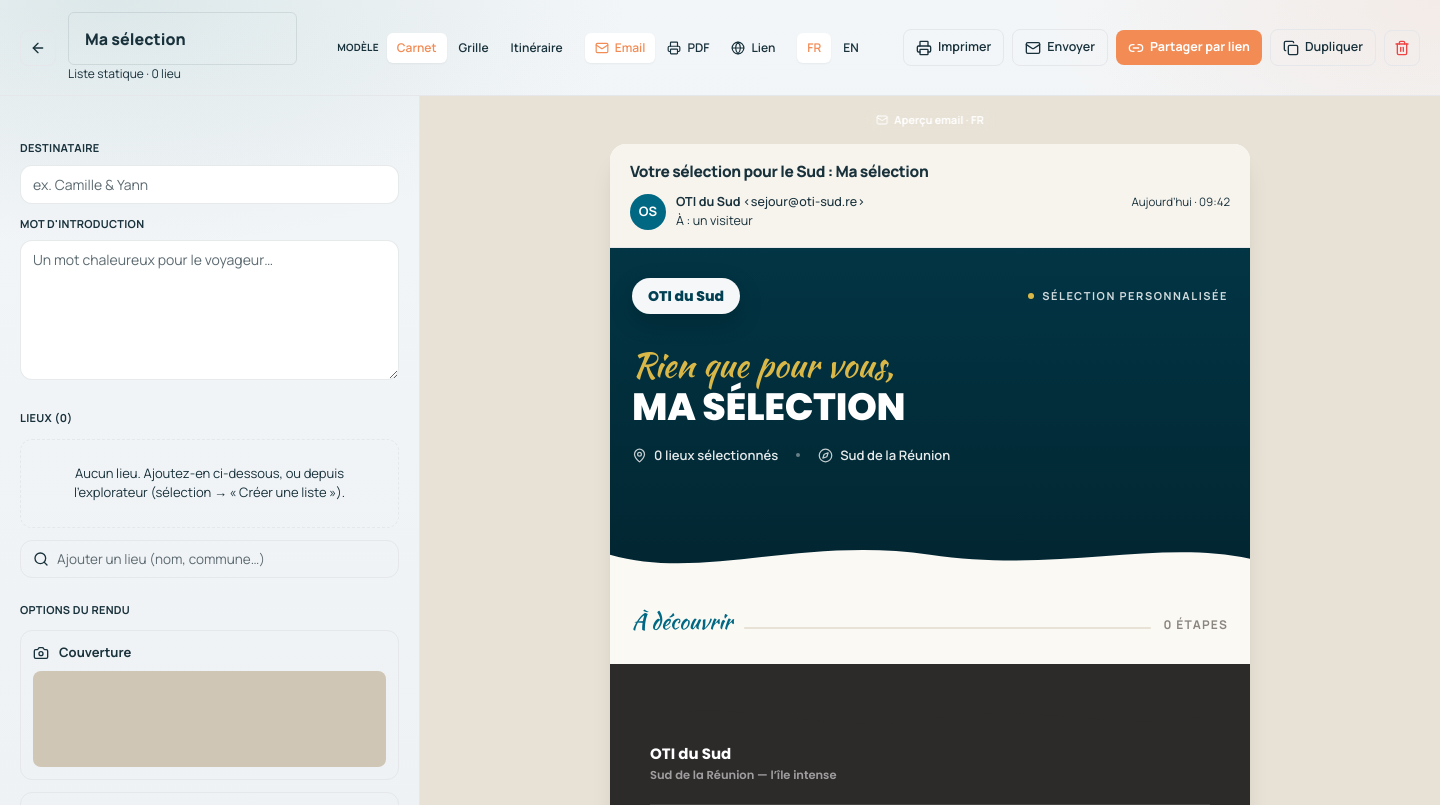
Test: ListComposeView — réconciliation post-enregistrement (rejet vs ajout plus récent) › retire un lieu ENVOYÉ mais rejeté par le serveur (ex. devenu brouillon) et le signale, tout en gardant un ajout survenu pendant le round-trip
The image size is (1440, 805).
Type "al" into the field with placeholder "Ajouter un lieu (nom, commune…)" at point(222, 559), box [57, 549, 386, 569]
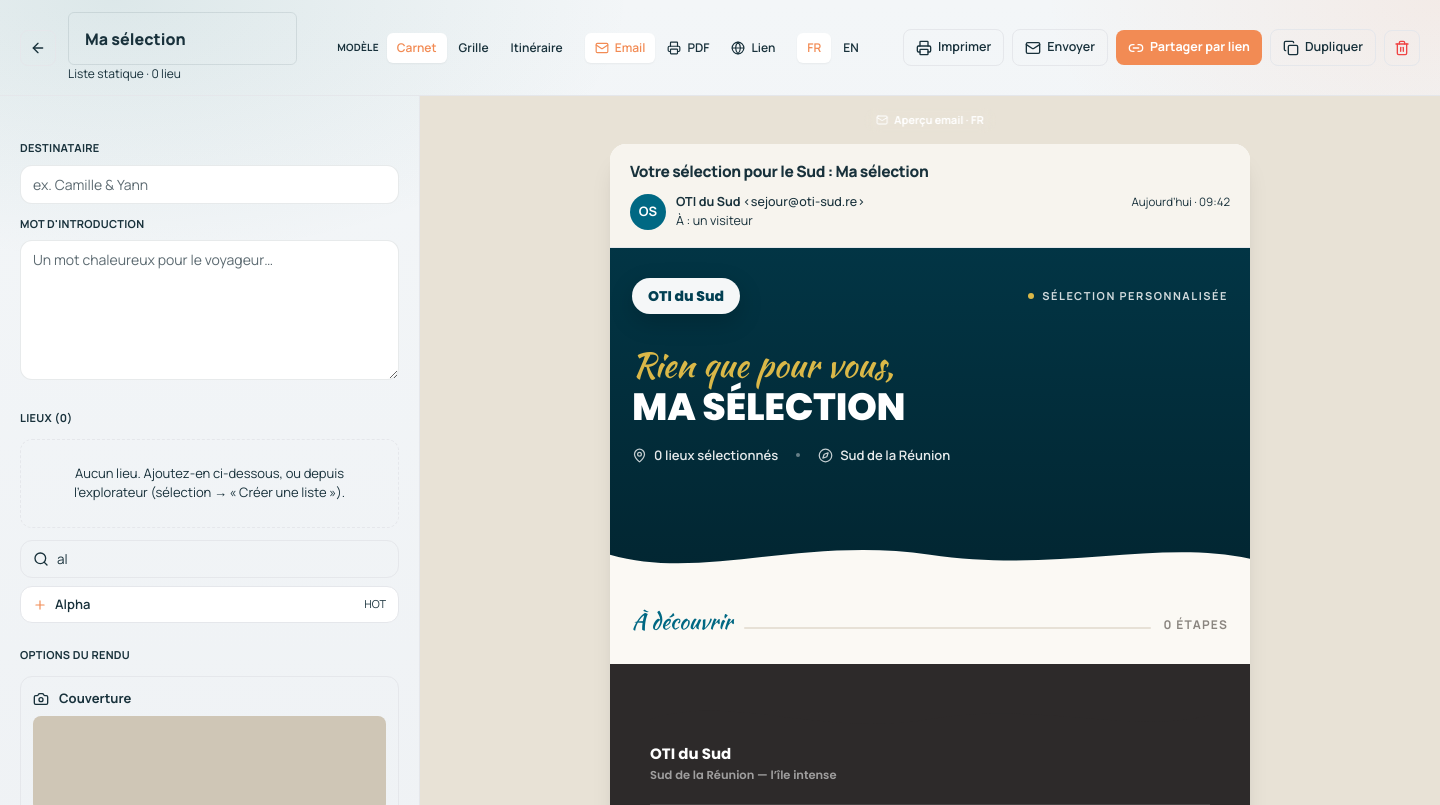
Click the text "Alpha" at point(73, 605), box [55, 595, 90, 614]
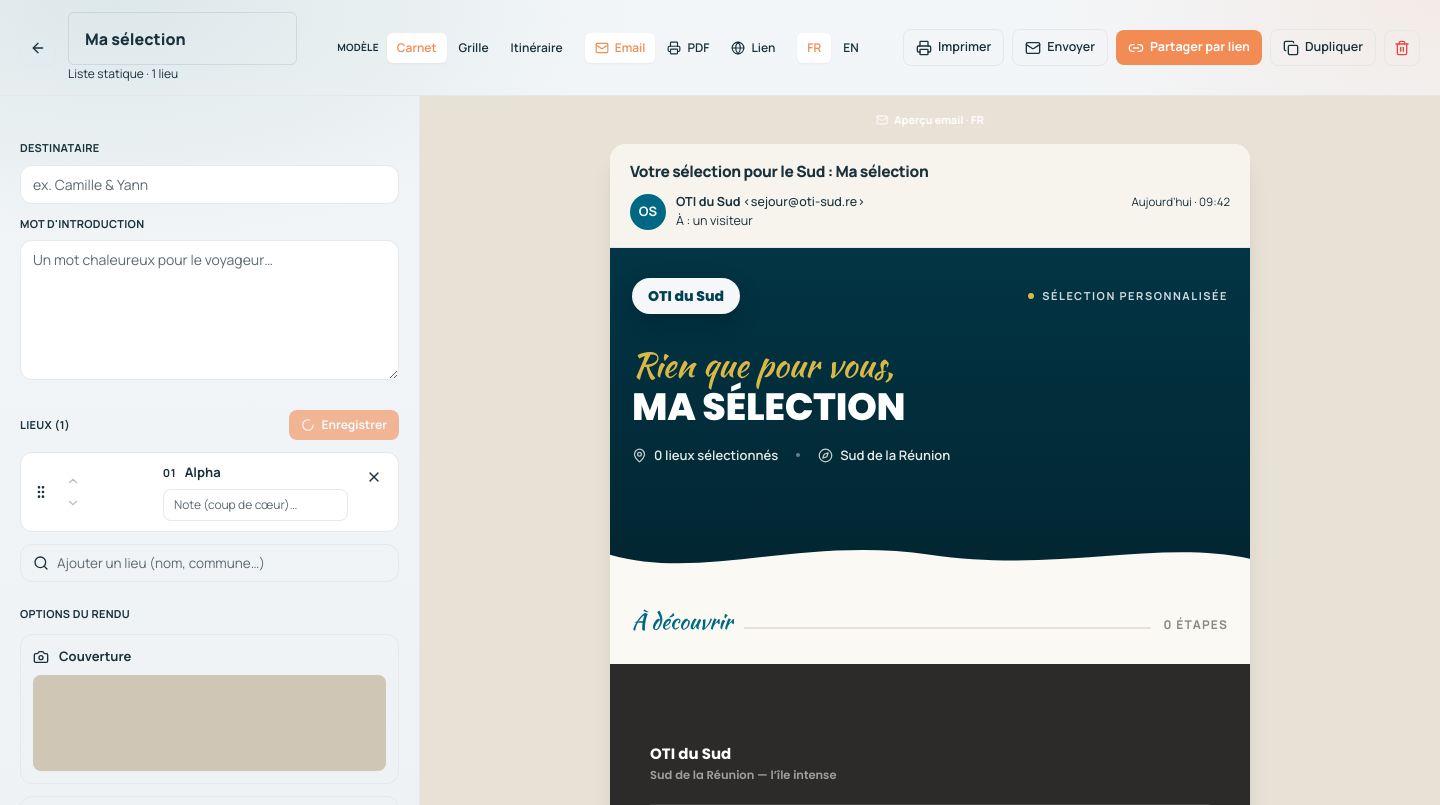
Type "be" into the field with placeholder "Ajouter un lieu (nom, commune…)" at point(222, 563), box [57, 553, 386, 573]
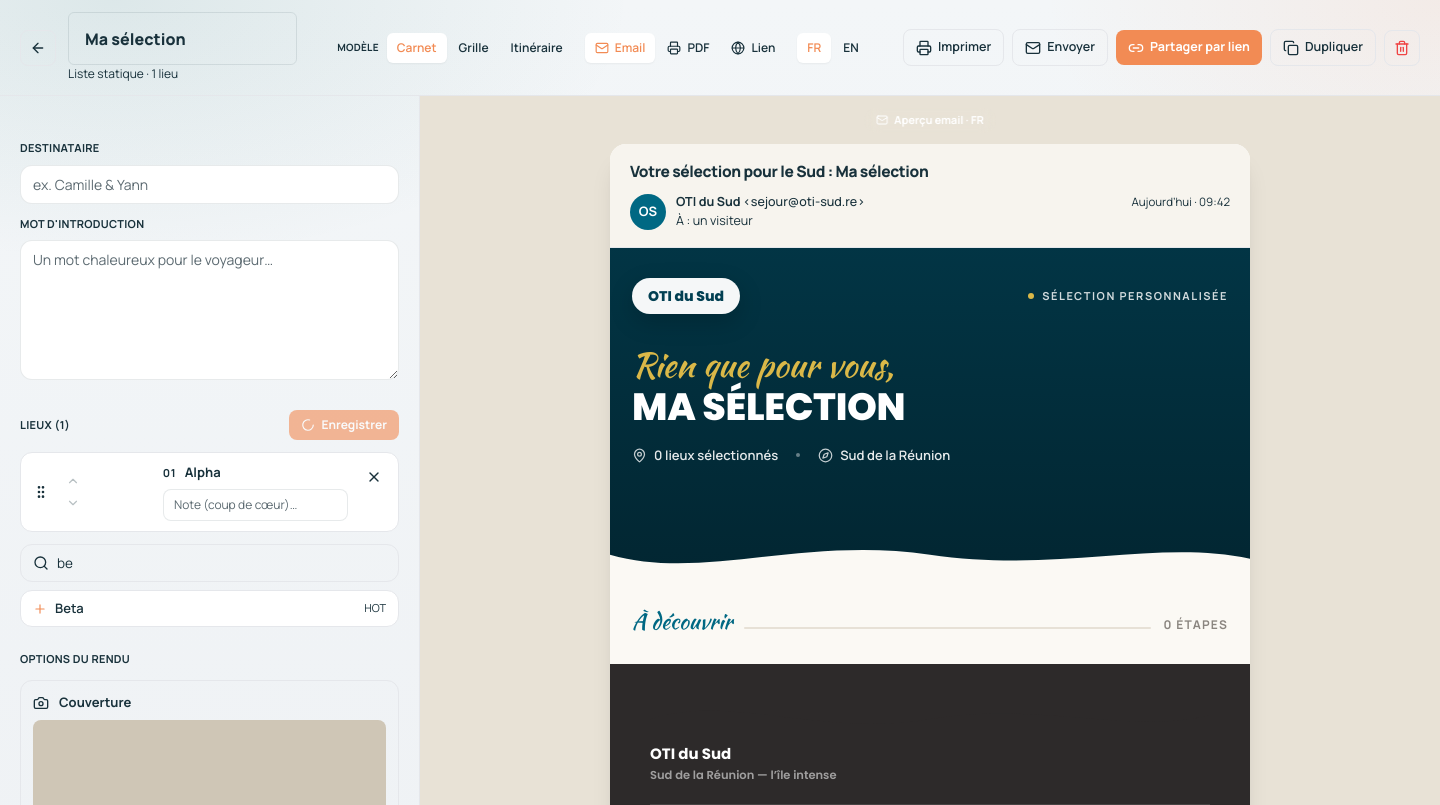
Click the text "Beta" at point(69, 609), box [55, 599, 84, 618]
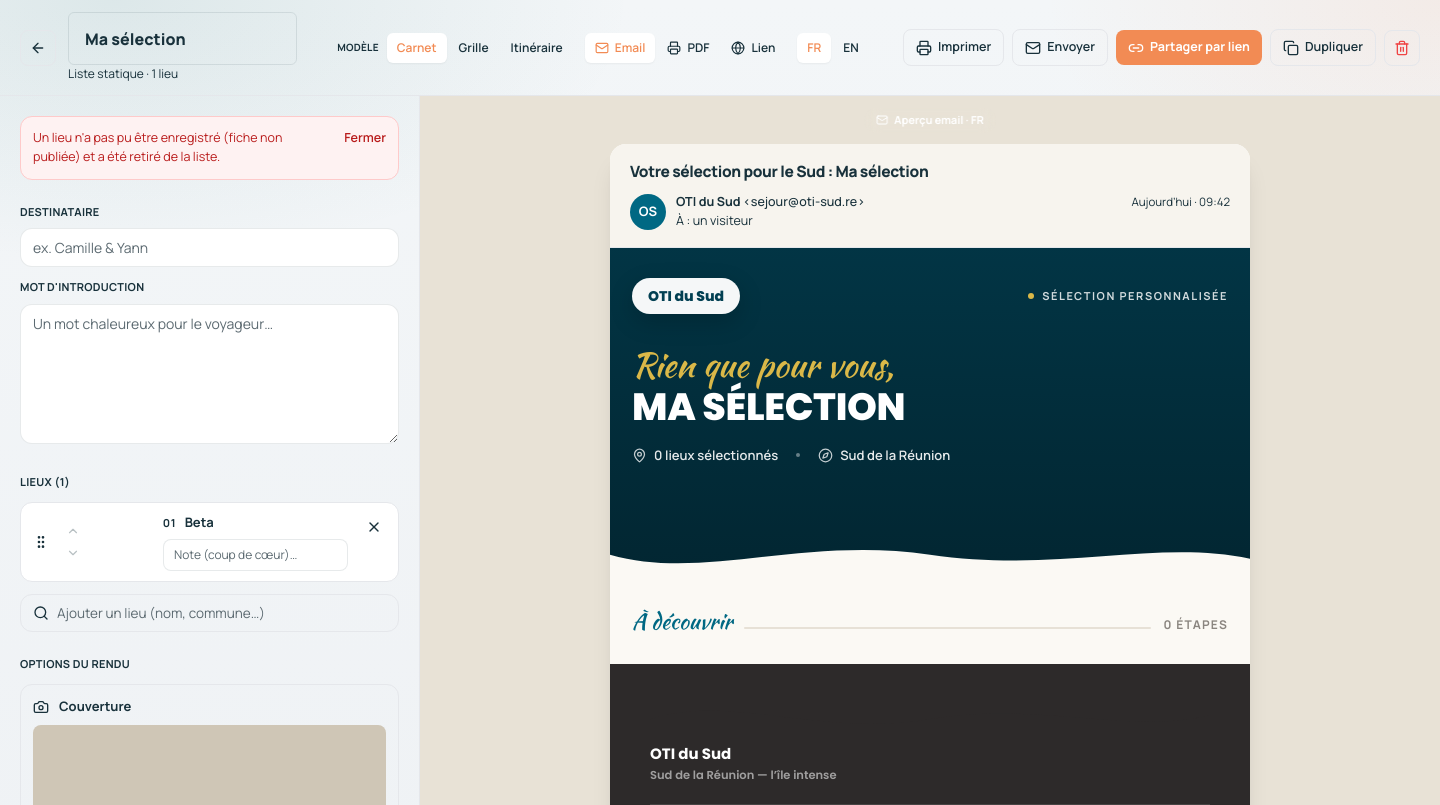
Now the text "Beta" is shown, box [185, 513, 214, 533]
Now the text "Alpha" is gone
Now the message shows "n'a pas pu être enregistré", box [33, 129, 282, 165]
